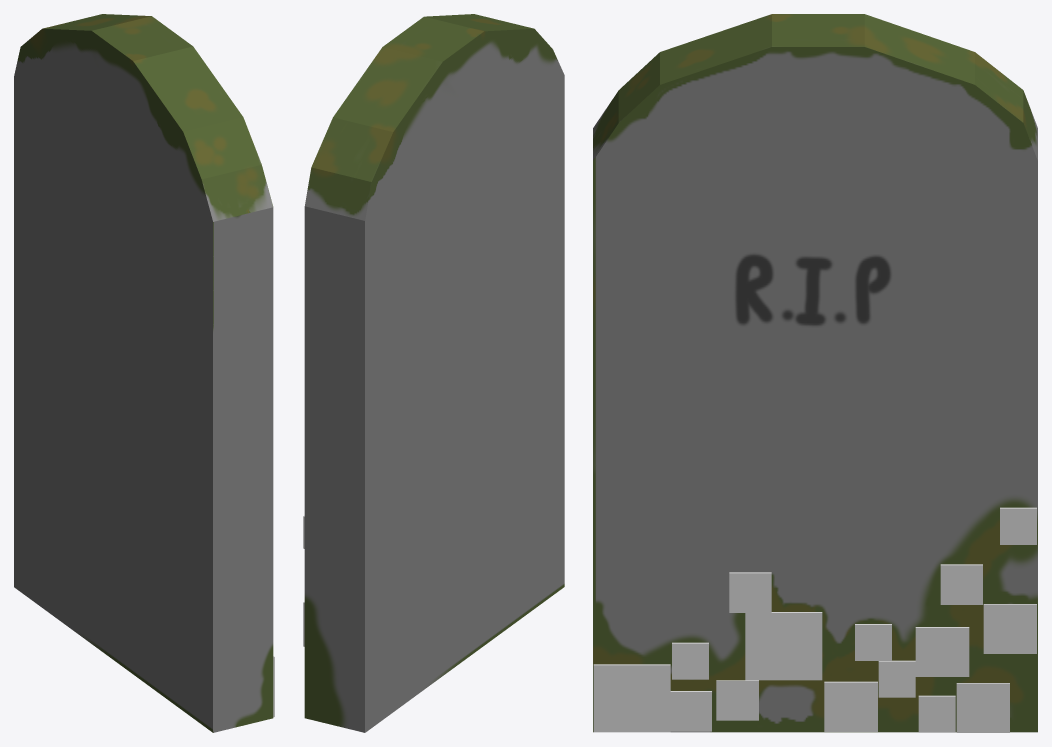
File: Gravestone1.fbx
3 renders of one model, left to right at view 1: azimuth 30°, elevation 25°; view 2: azimuth 150°, elevation 25°; view 3: azimuth 270°, elevation 25°, orthographic. The views are drawn at different scales.
Parts seen in each view (by area): view 1: Cube; view 2: Cube; view 3: Cube, Cube.001, Cube.009, Cube.003, Cube.011, Cube.004, Cube.007, Cube.005, Cube.006, Cube.012, Cube.015, Cube.014 (+4 smaller).
Part boxes in pixels (x1,y1,x2,y2): Cube: [14, 14, 273, 732]; Cube: [304, 14, 564, 732]; Cube: [593, 14, 1037, 732]; Cube.001: [593, 664, 670, 732]; Cube.009: [745, 612, 822, 680]; Cube.003: [824, 681, 877, 731]; Cube.011: [915, 627, 969, 676]; Cube.004: [983, 604, 1036, 653]; Cube.007: [956, 683, 1009, 732]; Cube.005: [940, 564, 982, 604]; Cube.006: [716, 680, 758, 720]; Cube.012: [729, 572, 771, 612]; Cube.015: [669, 691, 711, 731]; Cube.014: [918, 695, 955, 732].
Size of the model in its own units: 26.15 by 247 by 146.
1 material, 1 textured.
